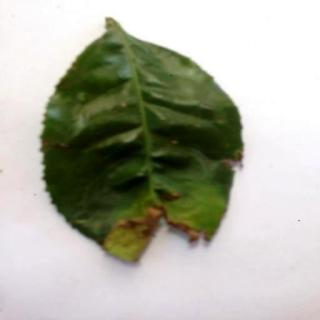Algal Leaf: (42, 16, 244, 265)
